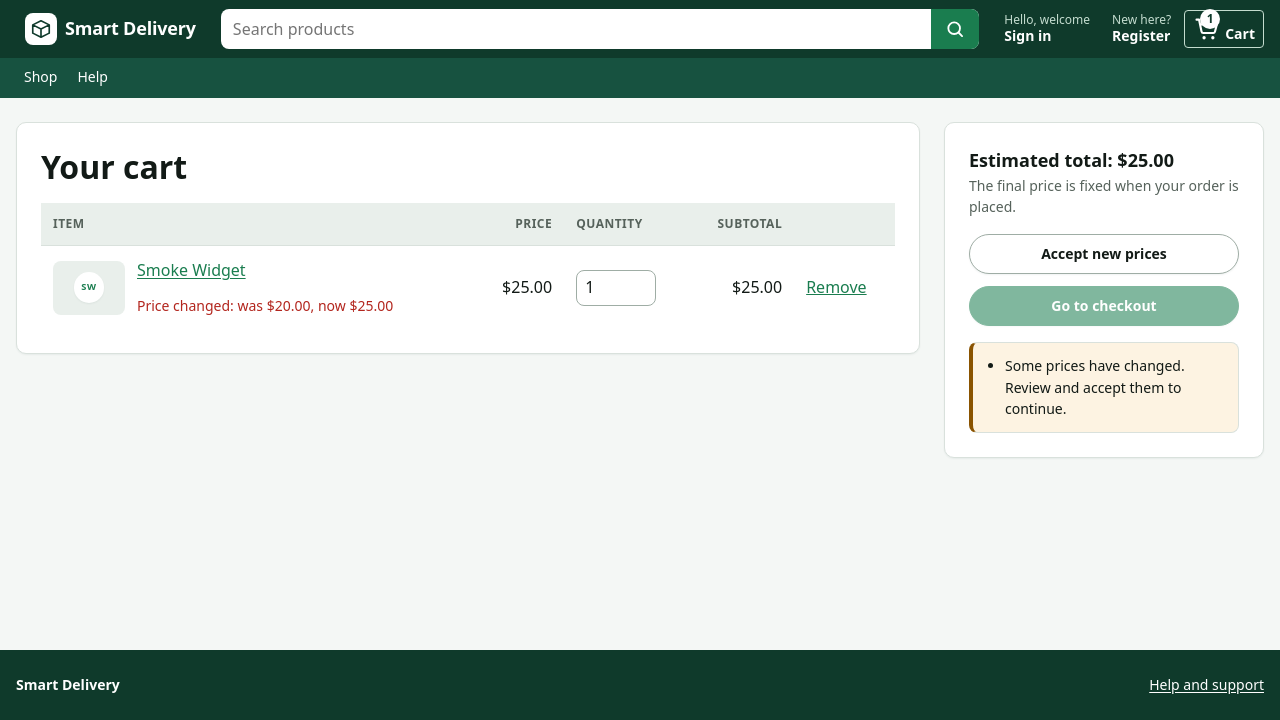
Test case: the cart › blocks checkout on a changed price until it is accepted
Check: the text "Price changed: was $20.00, now $25.00" is shown, box [137,295,393,317]
Check: the button "Go to checkout" is disabled, box [969,286,1239,326]
Click the button "Accept new prices".
click(1104, 254)  # box [969,234,1239,274]
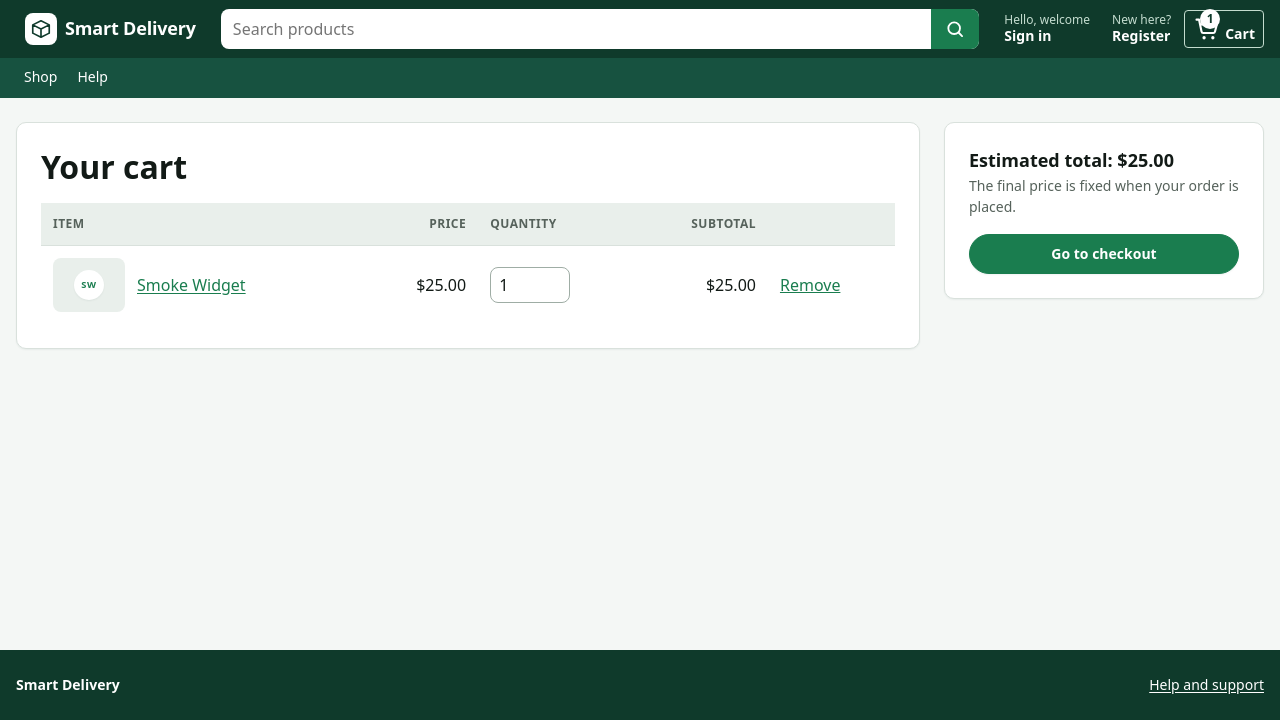
Check: the button "Go to checkout" is enabled, box [969,234,1239,274]
